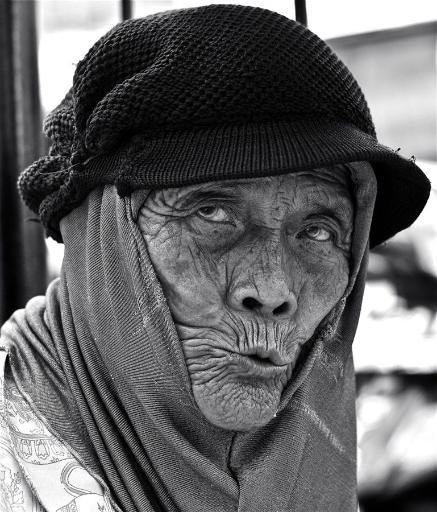left_eye: (299, 226, 340, 248)
right_eye: (141, 181, 228, 219), (189, 199, 239, 229)
right_lip_corner: (224, 344, 247, 370)
